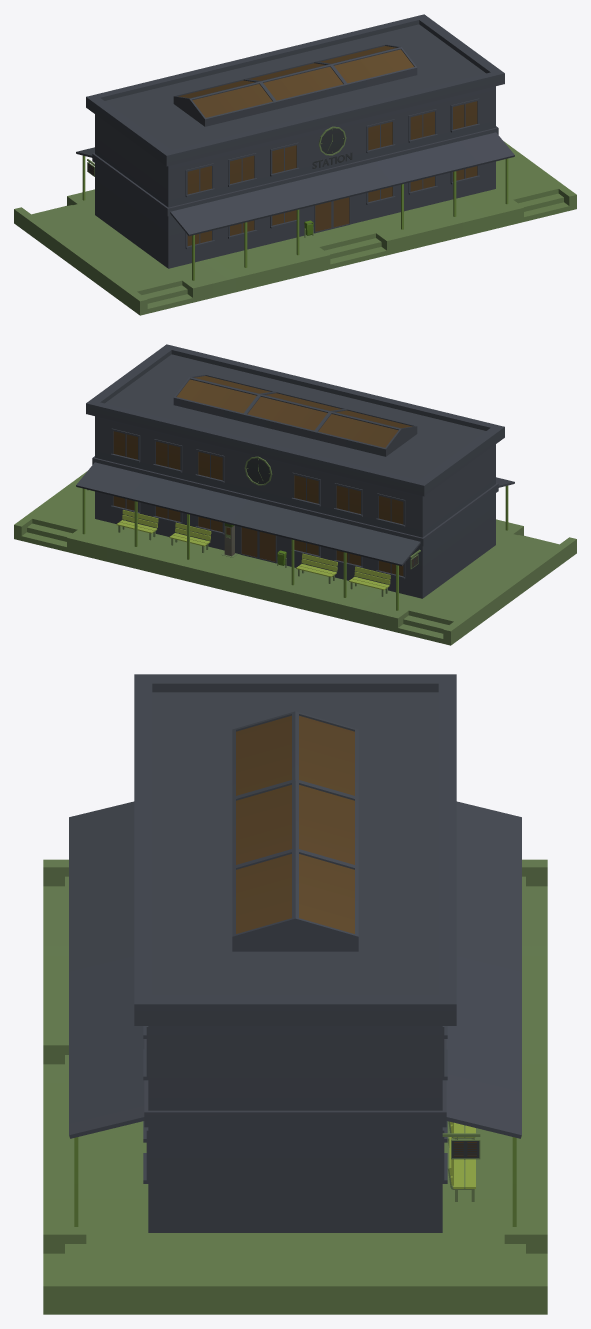
Rendered from Station_01.fbx.
The picture shows the model from 3 angles, top to bottom: view 1: azimuth 30°, elevation 25°; view 2: azimuth 150°, elevation 25°; view 3: azimuth 270°, elevation 25°; orthographic projection. The views are drawn at different scales.
Parts seen in each view (by area): view 1: Station_01; view 2: Station_01; view 3: Station_01.
Part boxes in pixels (box(x1,y1,x2,y2)): Station_01: box(14, 14, 576, 315); Station_01: box(14, 344, 576, 645); Station_01: box(43, 674, 547, 1314).
Bounding box in the file's own units: 24 × 7.52 × 12.
